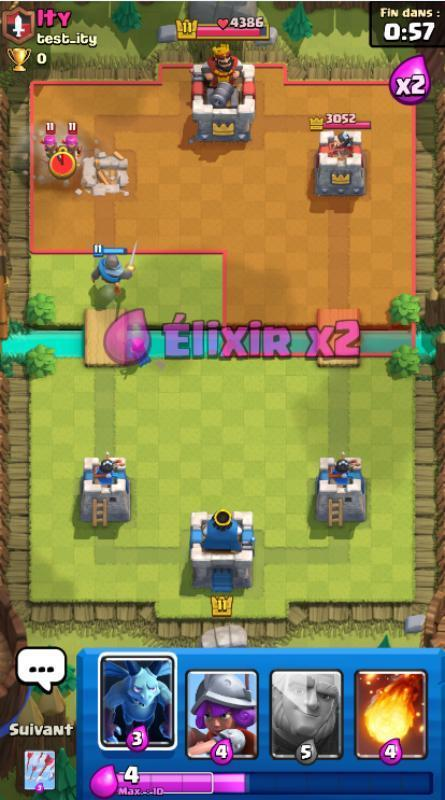enemy_archers: (37, 122, 60, 159), (62, 122, 84, 160)
player_knight: (86, 239, 141, 301)
